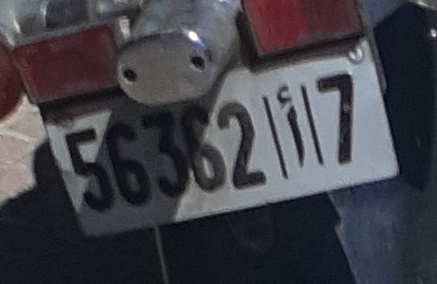2: (216, 95, 269, 190)
3: (141, 111, 192, 198)
5: (61, 130, 116, 212)
6: (103, 116, 154, 212), (181, 102, 227, 193)
7: (313, 68, 362, 164)
a: (274, 81, 314, 168)
